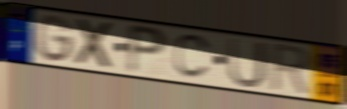C: (173, 33, 214, 81)
G: (34, 13, 76, 65)
P: (125, 21, 170, 76)
R: (267, 42, 314, 99)
U: (227, 36, 268, 90)
X: (75, 16, 116, 72)
